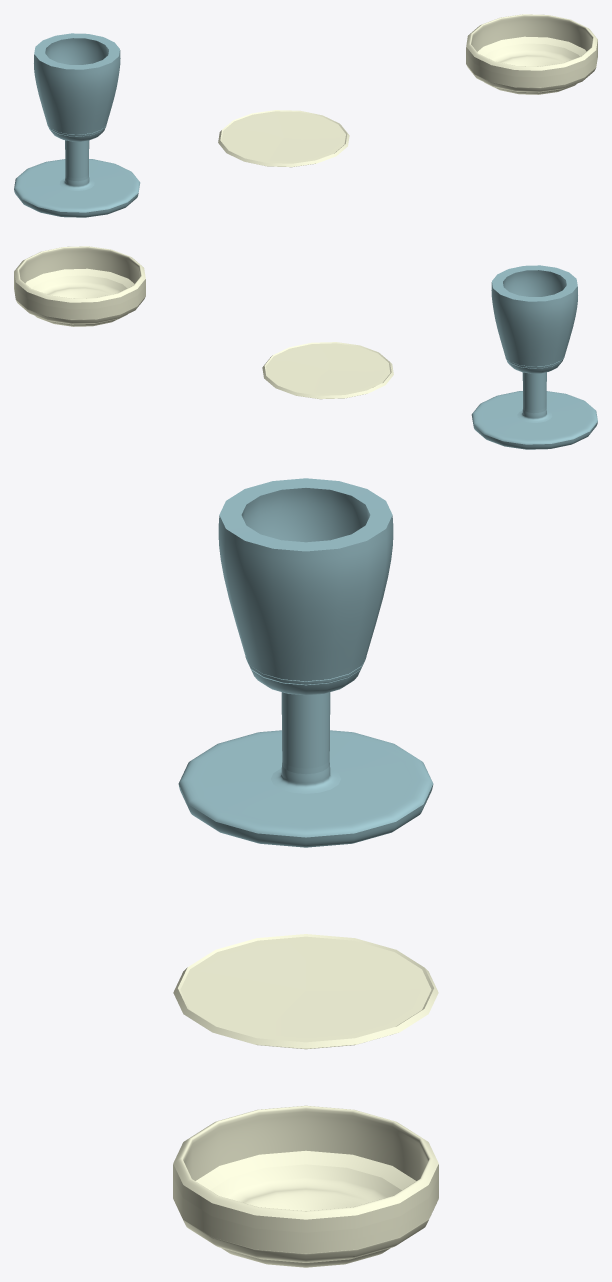
File: accesorios.fbx
3 views of the same model, one above another, from view 1: azimuth 30°, elevation 25°; view 2: azimuth 150°, elevation 25°; view 3: azimuth 270°, elevation 25° (orthographic). The views are drawn at different scales.
Visible parts, largest first — view 1: Line001, Line003, Line002; view 2: Line001, Line003, Line002; view 3: Line001, Line003, Line002.
Part boxes in pixels (left/top/right/bottom): Line001: left=14, top=33, right=140, bottom=217; Line003: left=466, top=14, right=597, bottom=94; Line002: left=218, top=110, right=349, bottom=167; Line001: left=471, top=265, right=597, bottom=449; Line003: left=14, top=246, right=145, bottom=326; Line002: left=262, top=342, right=393, bottom=399; Line001: left=178, top=478, right=433, bottom=847; Line003: left=173, top=1105, right=438, bottom=1267; Line002: left=173, top=934, right=438, bottom=1049.
Size of the model in its own units: 593 by 142 by 120.
